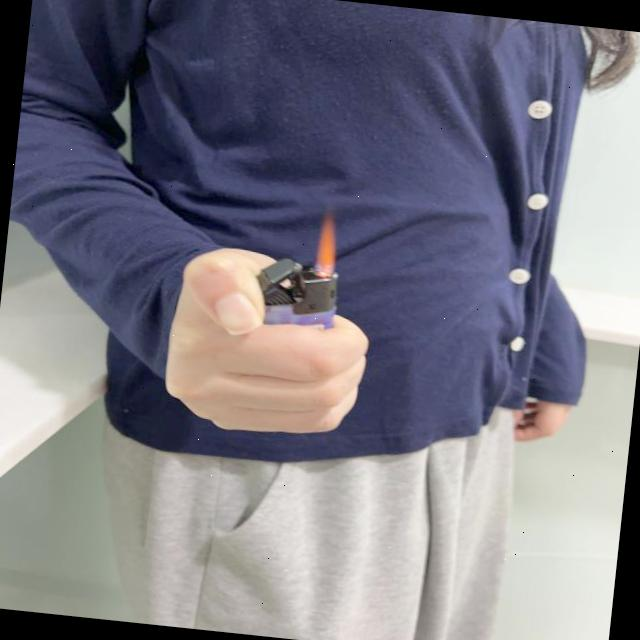fire: (313, 215, 342, 278)
